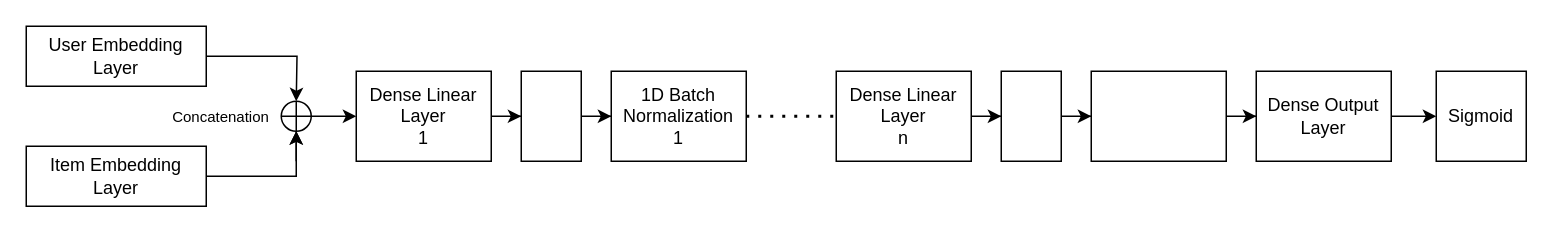
This 1553x233 diagram has some shape labels left out. The box of each missing label's shape, as (x1, y1, x2, y2) in pixels:
1D Batch Normalization n: (1090, 70, 1226, 161)
Relu 1: (520, 70, 581, 161)
Relu n: (1000, 70, 1061, 161)
